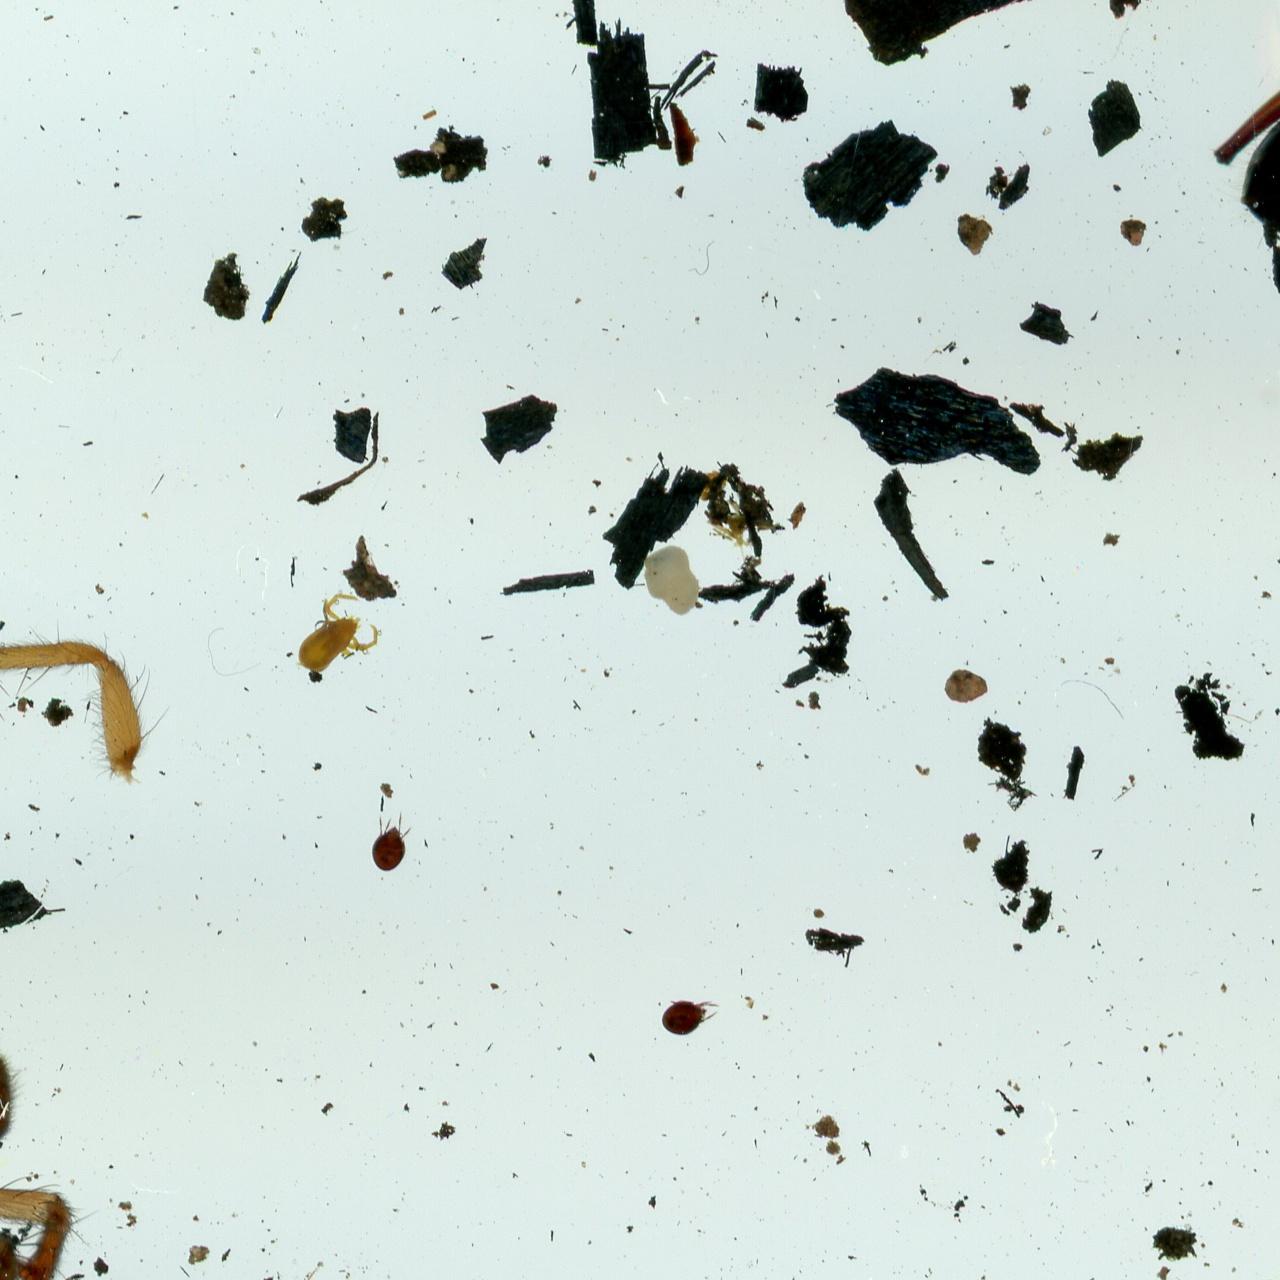arthropod: (0, 908, 104, 1280), (1182, 0, 1280, 258), (293, 590, 383, 677), (369, 810, 415, 875), (659, 993, 722, 1040)
